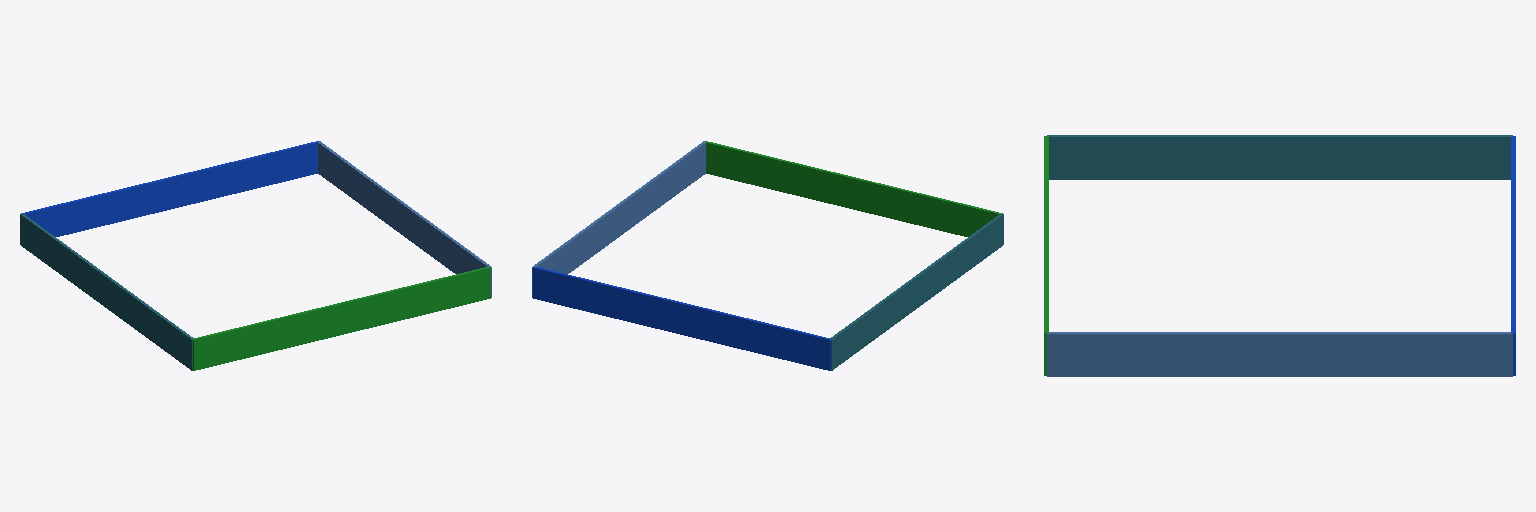
URDF robot description (unnamed):
<robot name="unnamed" version="1.0">
  <joint name="wall_1_2" type="fixed">
    <origin rpy="0.00000 0.00000 0.00000" xyz="0.00000 0.00000 0.00000"/>
    <parent link="wall_1"/>
    <child link="wall_2"/>
  </joint>
  <joint name="wall_2_3" type="fixed">
    <origin rpy="0.00000 0.00000 0.00000" xyz="0.00000 0.00000 0.00000"/>
    <parent link="wall_2"/>
    <child link="wall_3"/>
  </joint>
  <joint name="wall_3_4" type="fixed">
    <origin rpy="0.00000 0.00000 0.00000" xyz="0.00000 0.00000 0.00000"/>
    <parent link="wall_3"/>
    <child link="wall_4"/>
  </joint>
  <link name="wall_1">
    <collision name="wall_1_collision">
      <origin rpy="1.57080 0.00000 0.00000" xyz="5.00000 0.00000 0.50000"/>
      <geometry>
        <box size="0.10000 1.00000 10.00000"/>
      </geometry>
    </collision>
    <visual name="wall_1_visual">
      <origin rpy="0.00000 0.00000 0.00000" xyz="5.00000 0.00000 0.50000"/>
      <material name="grey"/>
      <geometry>
        <box size="0.10000 10.00000 1.00000"/>
      </geometry>
    </visual>
  </link>
  <link name="wall_2">
    <collision name="wall_2_collision">
      <origin rpy="0.00000 0.00000 0.00000" xyz="-5.00000 0.00000 0.50000"/>
      <geometry>
        <box size="0.10000 10.00000 1.00000"/>
      </geometry>
    </collision>
    <visual name="wall_2_visual">
      <origin rpy="0.00000 0.00000 0.00000" xyz="-5.00000 0.00000 0.50000"/>
      <material name="green"/>
      <geometry>
        <box size="0.10000 10.00000 1.00000"/>
      </geometry>
    </visual>
  </link>
  <link name="wall_3">
    <collision name="wall_3_collision">
      <origin rpy="0.00000 0.00000 0.00000" xyz="0.00000 5.00000 0.50000"/>
      <geometry>
        <box size="10.00000 0.10000 1.00000"/>
      </geometry>
    </collision>
    <visual name="wall_3_visual">
      <origin rpy="0.00000 0.00000 0.00000" xyz="0.00000 5.00000 0.50000"/>
      <material name="bliue"/>
      <geometry>
        <box size="10.00000 0.10000 1.00000"/>
      </geometry>
    </visual>
  </link>
  <link name="wall_4">
    <collision name="wall_4_collision">
      <origin rpy="0.00000 0.00000 0.00000" xyz="0.00000 -5.00000 0.50000"/>
      <geometry>
        <box size="10.00000 0.10000 1.00000"/>
      </geometry>
    </collision>
    <visual name="wall_4_visual">
      <origin rpy="0.00000 0.00000 0.00000" xyz="0.00000 -5.00000 0.50000"/>
      <material name="red"/>
      <geometry>
        <box size="10.00000 0.10000 1.00000"/>
      </geometry>
    </visual>
  </link>
  <material name="bliue">
    <color rgba="0.11373 0.33333 0.80000 1.00000"/>
  </material>
  <material name="green">
    <color rgba="0.20392 0.450000 0.50392 1.00000"/>
  </material>
  <material name="grey">
    <color rgba="0.33 0.5 0.7 1.00000"/>
  </material>
  <material name="red">
    <color rgba="0.15000 0.6 0.2 1.00000"/>
  </material>
</robot>

--- What the picture shows (computed from the rendered views, not written in the file) ---
Views: 3 orthographic renders of the robot side by side, from view 1: azimuth 30°, elevation 25°; view 2: azimuth 150°, elevation 25°; view 3: azimuth 270°, elevation 25°.
Robot: unnamed — 4 links, 3 joints (3 fixed); root link wall_1; default pose: every joint at zero.
Links seen in each view (by area): view 1: wall_4, wall_3, wall_2, wall_1; view 2: wall_3, wall_4, wall_2, wall_1; view 3: wall_1, wall_2, wall_4, wall_3.
Link boxes in pixels (x1,y1,x2,y2): wall_4: [193, 267, 490, 370]; wall_3: [21, 141, 318, 236]; wall_2: [20, 214, 193, 370]; wall_1: [318, 141, 491, 297]; wall_3: [533, 267, 830, 370]; wall_4: [705, 141, 1002, 236]; wall_2: [830, 214, 1003, 370]; wall_1: [532, 141, 705, 297]; wall_1: [1047, 332, 1512, 376]; wall_2: [1047, 135, 1512, 179]; wall_4: [1044, 136, 1048, 375]; wall_3: [1511, 136, 1515, 375].
Size in the robot's own frame: 10.1 by 10.1 by 1 metres.
Geometry: primitives only (box / cylinder / sphere), no mesh files.